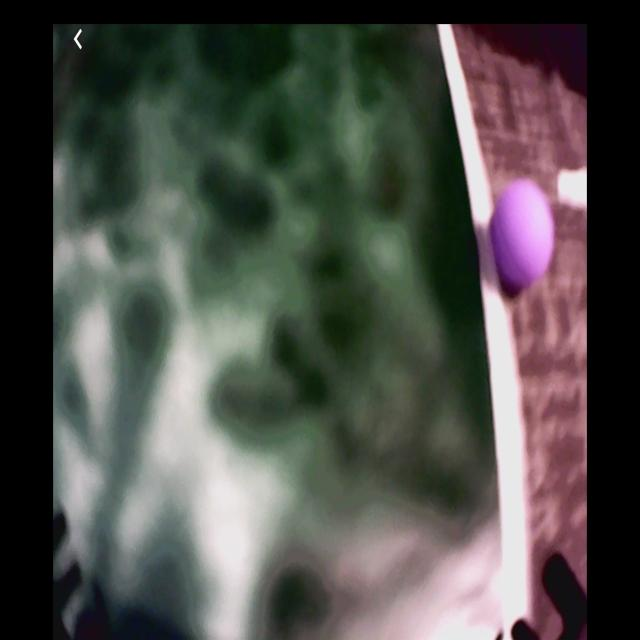ball: (493, 177, 556, 293)
